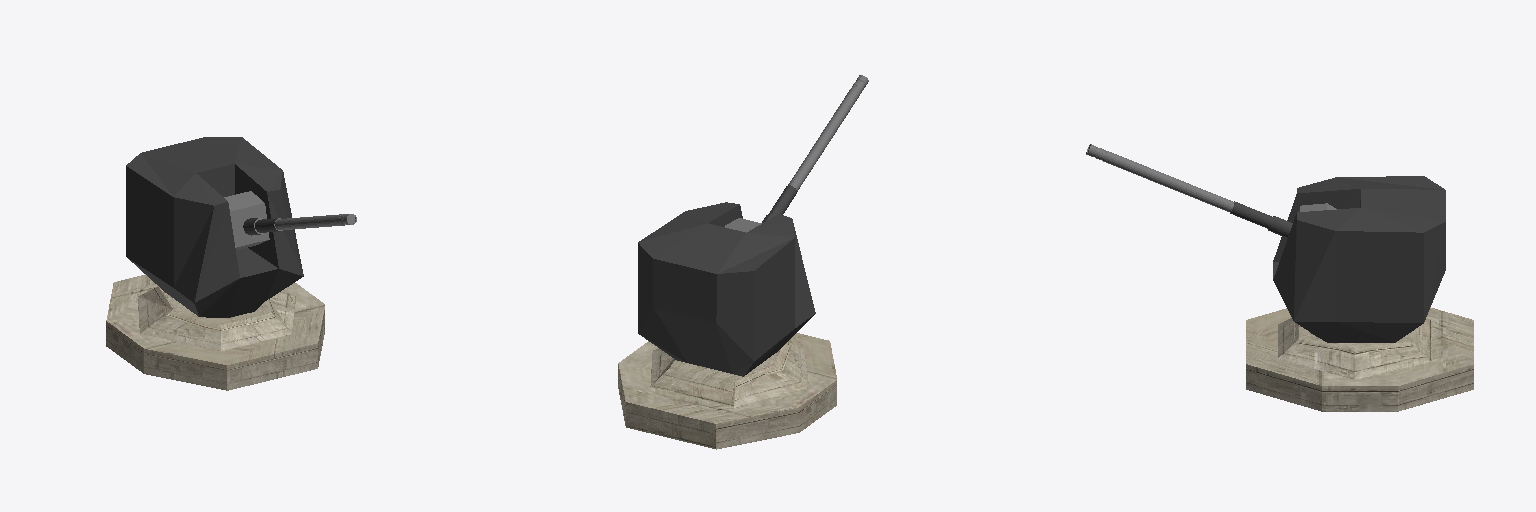
The picture shows the model from 3 angles: view 1: azimuth 30°, elevation 25°; view 2: azimuth 150°, elevation 25°; view 3: azimuth 270°, elevation 25°; orthographic projection.
Parts seen in each view (by area): view 1: Base1 pCube4, Base1, Base1 pCube4 pCube3, Base1 pCube4 pCube3 pCylinder1; view 2: Base1 pCube4, Base1, Base1 pCube4 pCube3 pCylinder1; view 3: Base1 pCube4, Base1, Base1 pCube4 pCube3 pCylinder1.
Part boxes in pixels (x1,y1,x2,y2): Base1 pCube4: (126, 137, 303, 317); Base1: (106, 274, 324, 390); Base1 pCube4 pCube3: (224, 191, 269, 249); Base1 pCube4 pCube3 pCylinder1: (243, 214, 356, 235); Base1 pCube4: (638, 202, 815, 376); Base1: (618, 333, 836, 449); Base1 pCube4 pCube3 pCylinder1: (762, 75, 868, 222); Base1 pCube4: (1273, 176, 1445, 342); Base1: (1246, 307, 1473, 411); Base1 pCube4 pCube3 pCylinder1: (1086, 144, 1292, 237).
Size of the model in its own units: 8.03 by 9.45 by 14.88.
Materials: 4 (1 with a texture image).